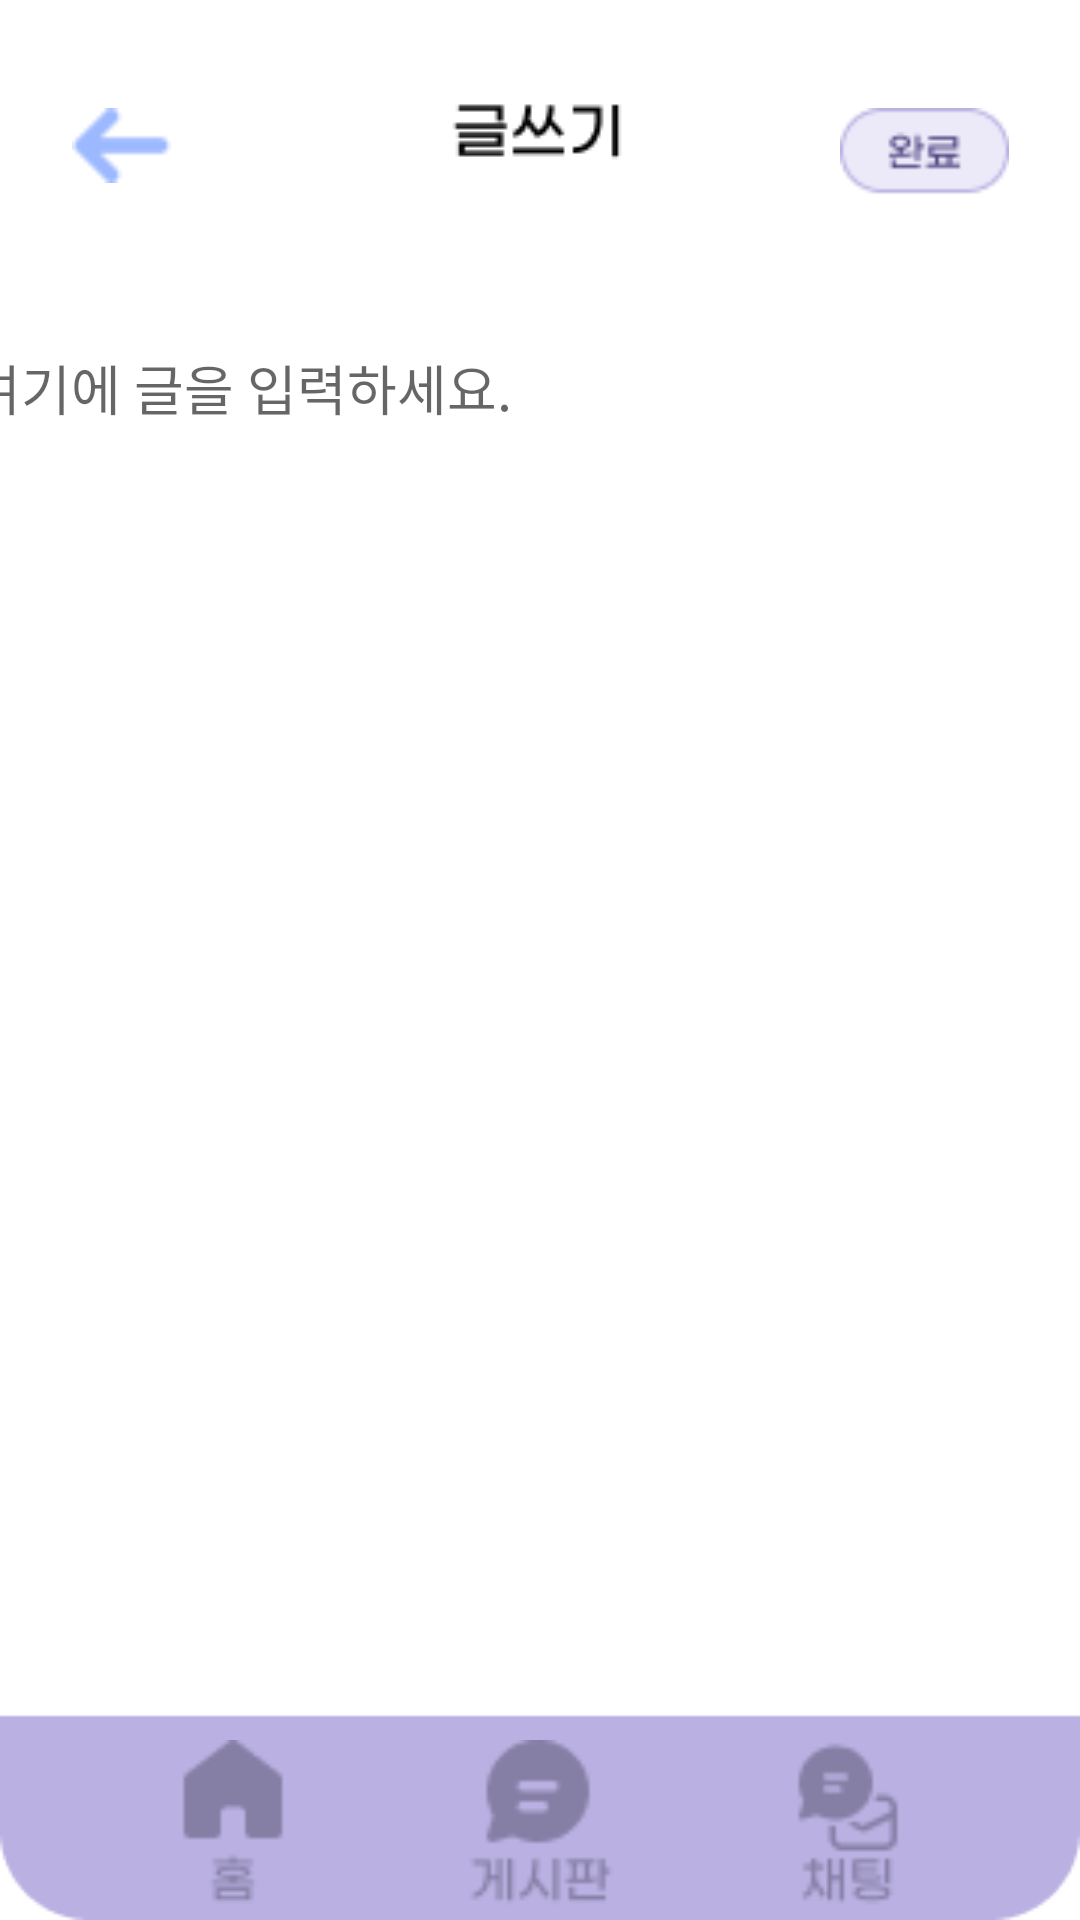

Named icons in this screenshot (1080 × 1920) and their centers, (x,y):
back: (120,145)
